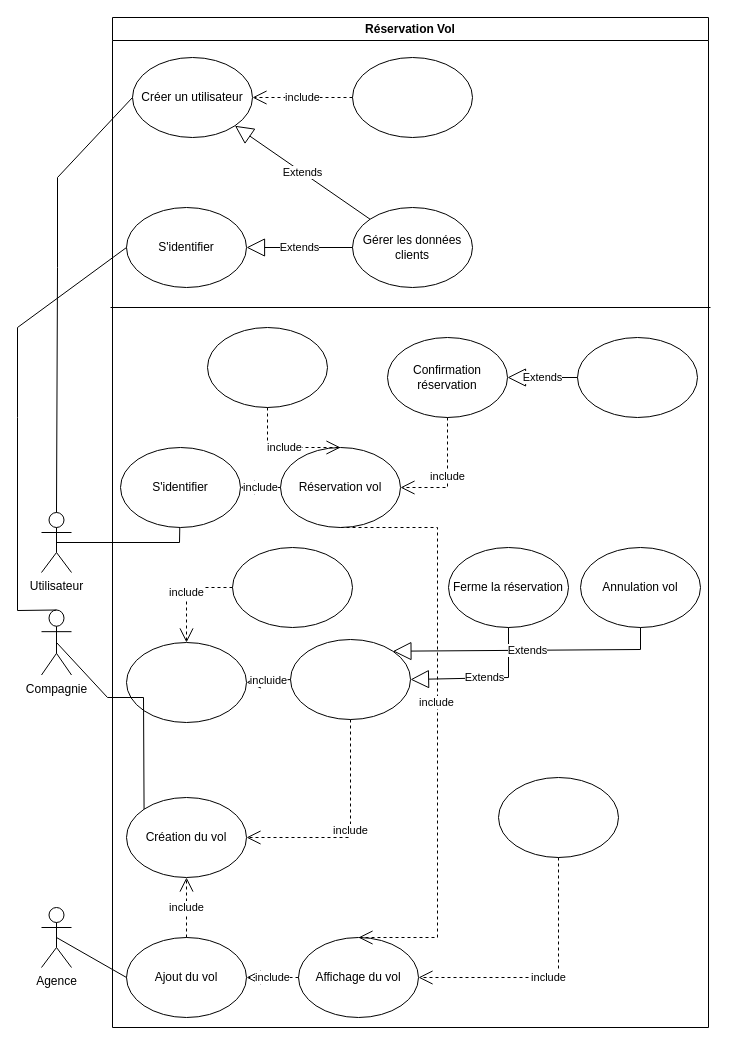
The diagram is 729 pixels wide and 1045 high, and some of its shapes have lost their labels. The shapes that lost their labels are listed below. From the top down, each one's centre as x and y in pixels, then its label:
At point (412, 97): "Données clients".
At point (267, 367): "Choix passager".
At point (637, 377): "Annulation réservation".
At point (292, 587): "Vol".
At point (186, 682): "Identification du vol".
At point (350, 679): "Ouvre la réservation".
At point (558, 817): "Gérer la gestion des vols".
